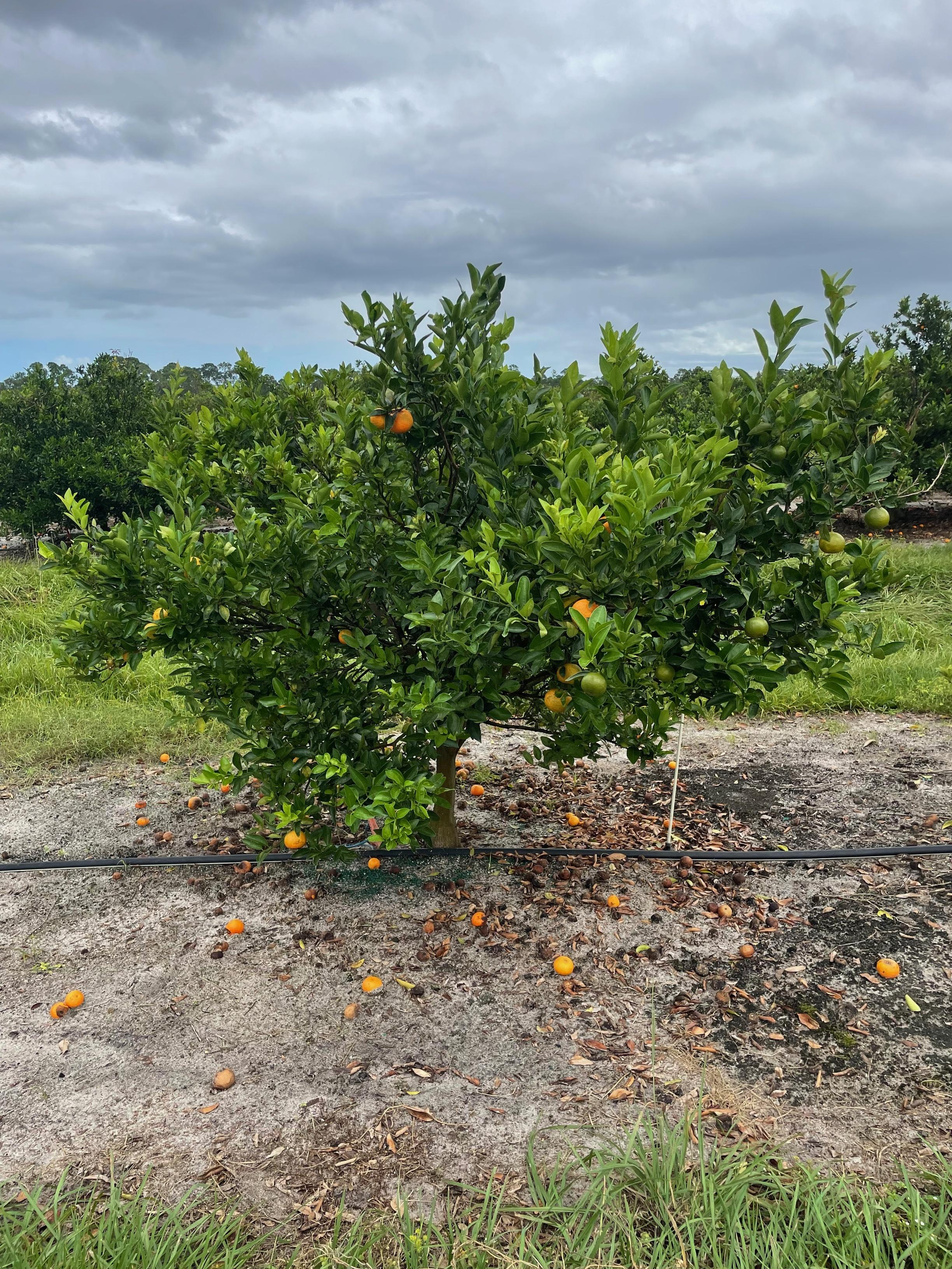fruit_on_ground: (567, 596, 608, 633), (541, 686, 574, 716), (385, 405, 415, 436), (816, 527, 848, 556), (863, 503, 892, 532), (579, 670, 608, 699), (742, 613, 772, 641), (555, 659, 584, 685), (593, 512, 621, 537), (367, 405, 392, 432), (181, 555, 208, 580), (282, 827, 308, 850), (836, 505, 862, 527), (653, 661, 677, 684), (766, 442, 790, 464), (121, 643, 143, 666), (140, 620, 163, 641), (150, 604, 173, 624), (336, 627, 356, 645)
fruit_on_tree: (875, 954, 902, 980), (212, 1067, 237, 1091), (552, 953, 575, 977), (360, 973, 383, 993), (64, 988, 86, 1008), (48, 1000, 67, 1020), (342, 1001, 361, 1020), (225, 917, 245, 935), (716, 900, 734, 918), (737, 942, 755, 958), (604, 893, 621, 909), (470, 910, 486, 926), (705, 900, 722, 915), (468, 782, 485, 797), (763, 915, 780, 930), (678, 853, 694, 868), (236, 858, 253, 872), (187, 795, 202, 810), (366, 856, 382, 870), (731, 871, 747, 885), (566, 815, 582, 828), (455, 767, 470, 780), (303, 888, 317, 901), (660, 876, 675, 888), (662, 818, 676, 830), (161, 829, 175, 841), (462, 758, 476, 770), (219, 781, 231, 793), (207, 836, 220, 847), (134, 798, 147, 809), (136, 815, 149, 826), (252, 864, 264, 875), (111, 870, 123, 881), (667, 760, 678, 771), (159, 752, 170, 763), (565, 811, 577, 821), (574, 759, 586, 768), (452, 758, 462, 768)
